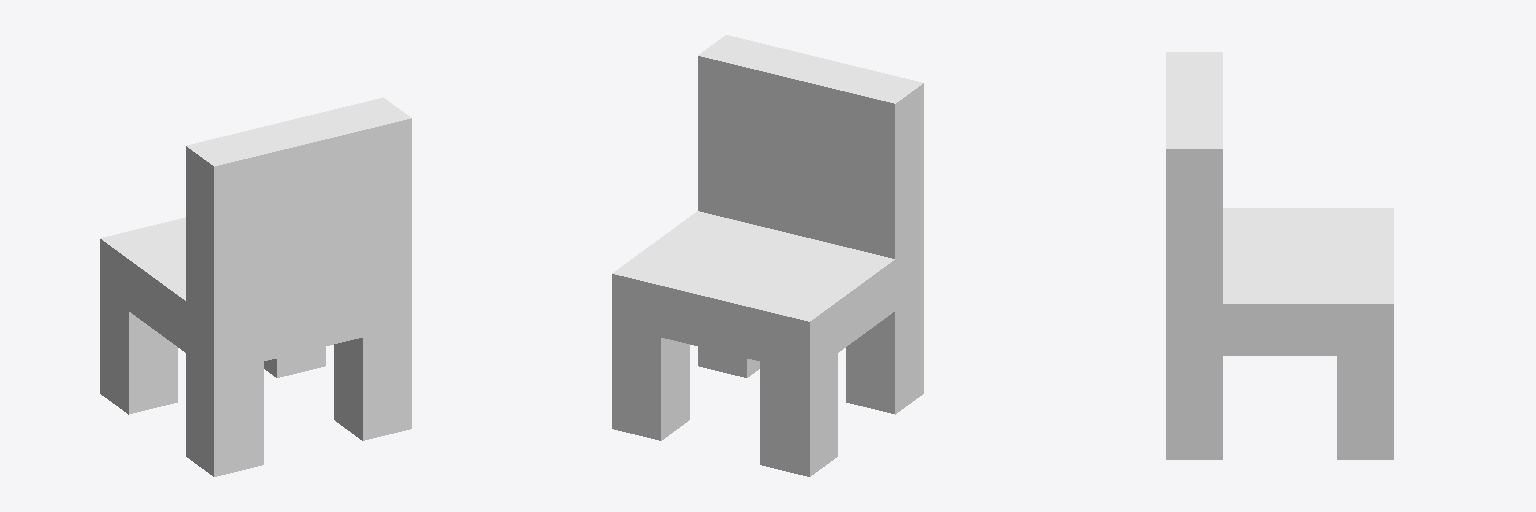
Rendered from -2-cadeira.obj.
The picture shows the model from 3 angles: view 1: azimuth 30°, elevation 25°; view 2: azimuth 150°, elevation 25°; view 3: azimuth 270°, elevation 25°; orthographic projection.
Visible parts, largest first — view 1: cadeira; view 2: cadeira; view 3: cadeira.
Part boxes in pixels (x1,y1,x2,y2): cadeira: (100, 97, 411, 476); cadeira: (612, 35, 923, 476); cadeira: (1166, 52, 1393, 459).
Size of the model in its own units: 0.4 by 0.6 by 0.4.